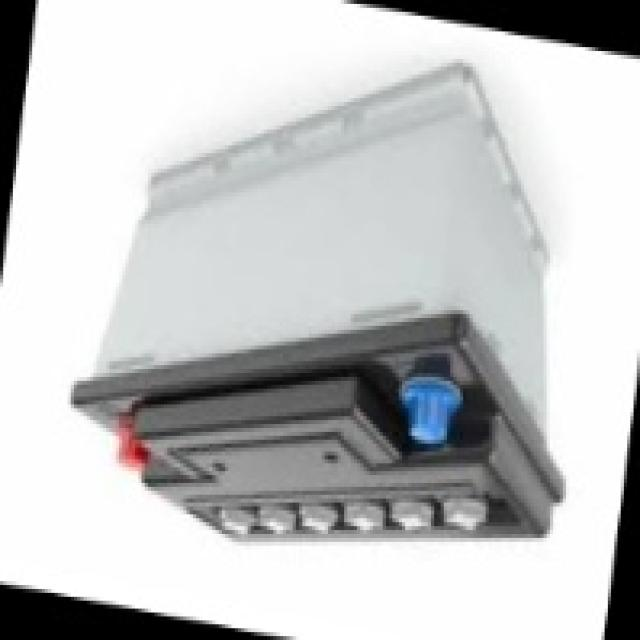elektronik: (73, 63, 562, 544)
